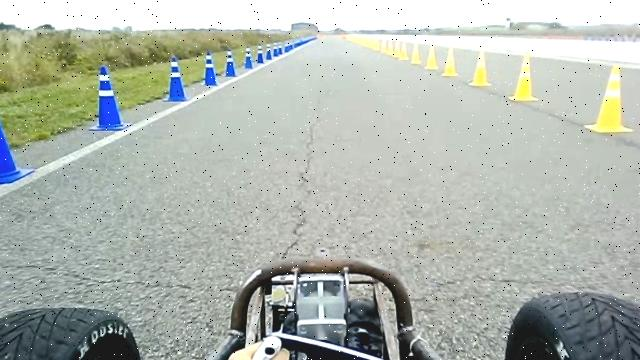blue cone: (0, 82, 34, 184), (88, 65, 132, 131), (162, 54, 190, 102), (201, 50, 219, 86), (224, 48, 237, 77), (243, 46, 254, 69), (256, 44, 265, 63)
yellow cone: (584, 65, 633, 133), (508, 52, 538, 102), (468, 48, 492, 86), (442, 46, 458, 77), (424, 43, 438, 70), (410, 42, 421, 64), (398, 42, 408, 60), (386, 40, 394, 55)
